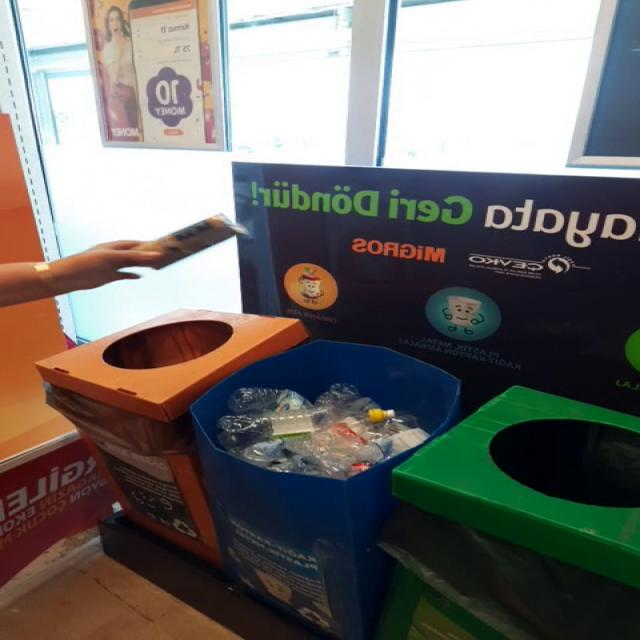metal: (135, 213, 245, 269)
